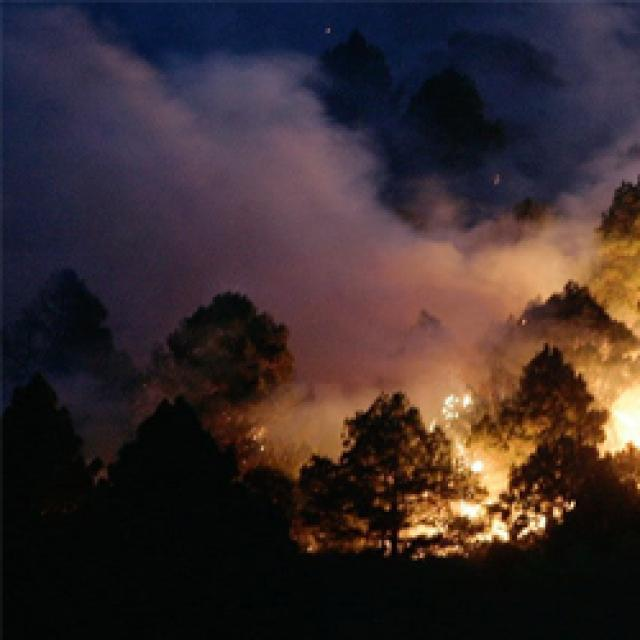Fire: (404, 497, 514, 572), (600, 387, 640, 461), (511, 494, 575, 534), (429, 391, 482, 432), (440, 437, 490, 478), (240, 427, 271, 455)
Smoke: (0, 0, 441, 414), (440, 0, 640, 384), (269, 412, 350, 474)
